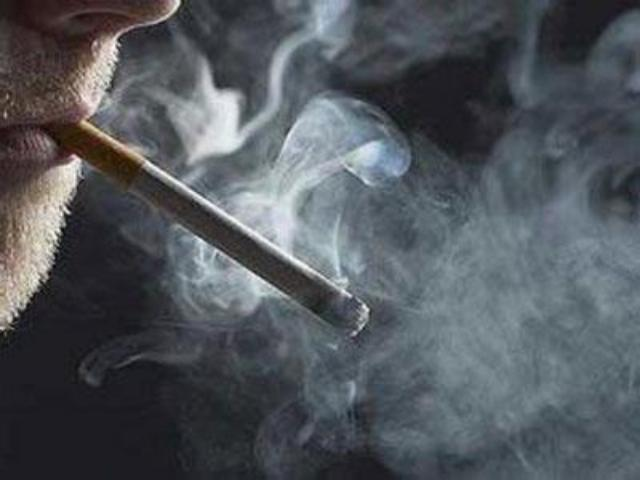Cigarette: (53, 113, 375, 341)
